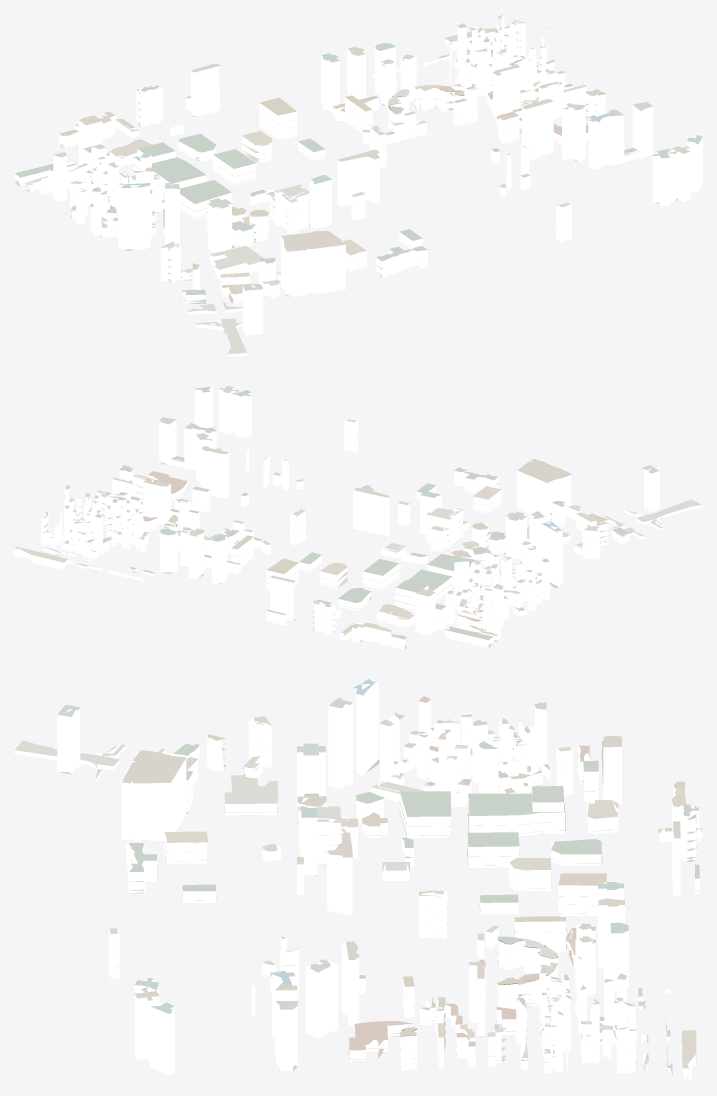
The model's file is buildings-2_-2-coarse.glb.
3 views of the same model, one above another, from view 1: azimuth 30°, elevation 25°; view 2: azimuth 150°, elevation 25°; view 3: azimuth 270°, elevation 25° (orthographic). The views are drawn at different scales.
Visible parts, largest first — view 1: block_2_-2_office, block_2_-2_residential, block_2_-2_roof; view 2: block_2_-2_residential, block_2_-2_office, block_2_-2_roof; view 3: block_2_-2_residential, block_2_-2_office, block_2_-2_roof.
Boxes of the visible parts, x1,y1,x2,y2 form: block_2_-2_office: (53,16,702,335); block_2_-2_residential: (14,18,639,357); block_2_-2_roof: (14,14,702,357); block_2_-2_residential: (14,419,702,649); block_2_-2_office: (63,386,659,643); block_2_-2_roof: (15,386,701,649); block_2_-2_residential: (14,712,702,1080); block_2_-2_office: (57,679,699,1075); block_2_-2_roof: (14,679,702,1079).
Bounding box in the file's own units: 683 × 80.73 × 587.
